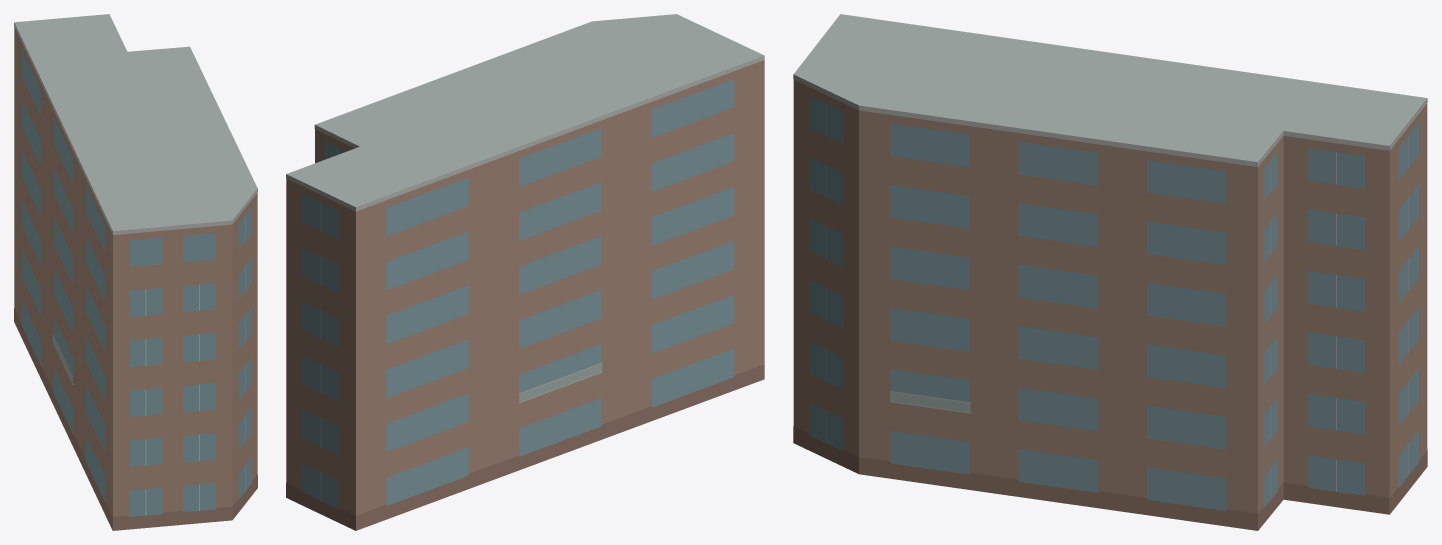
The model's file is survey-upis-33025203.glb.
3 views of the same model, side by side, from view 1: azimuth 30°, elevation 25°; view 2: azimuth 150°, elevation 25°; view 3: azimuth 270°, elevation 25° (orthographic). The views are drawn at different scales.
Visible parts, largest first — view 1: survey-upis-33025203.tmp; view 2: survey-upis-33025203.tmp; view 3: survey-upis-33025203.tmp.
Part boxes in pixels (box(x1,y1,x2,y2)): survey-upis-33025203.tmp: box(14, 14, 257, 530); survey-upis-33025203.tmp: box(286, 14, 764, 530); survey-upis-33025203.tmp: box(793, 14, 1427, 530).
Size of the model in its own units: 15.79 by 18.3 by 28.53.
